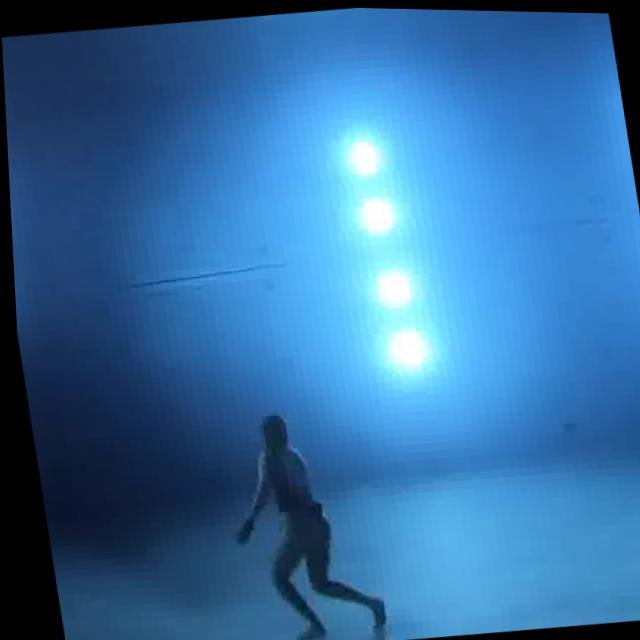human: (196, 381, 386, 640)
